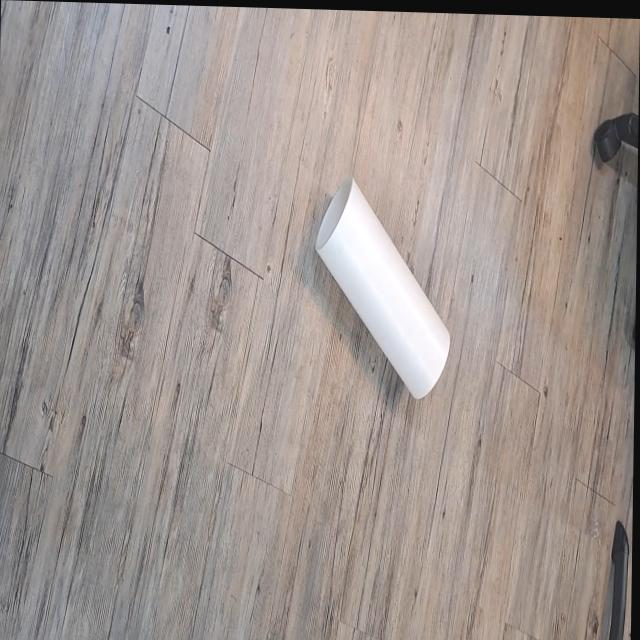CORAL: (289, 158, 456, 411)
